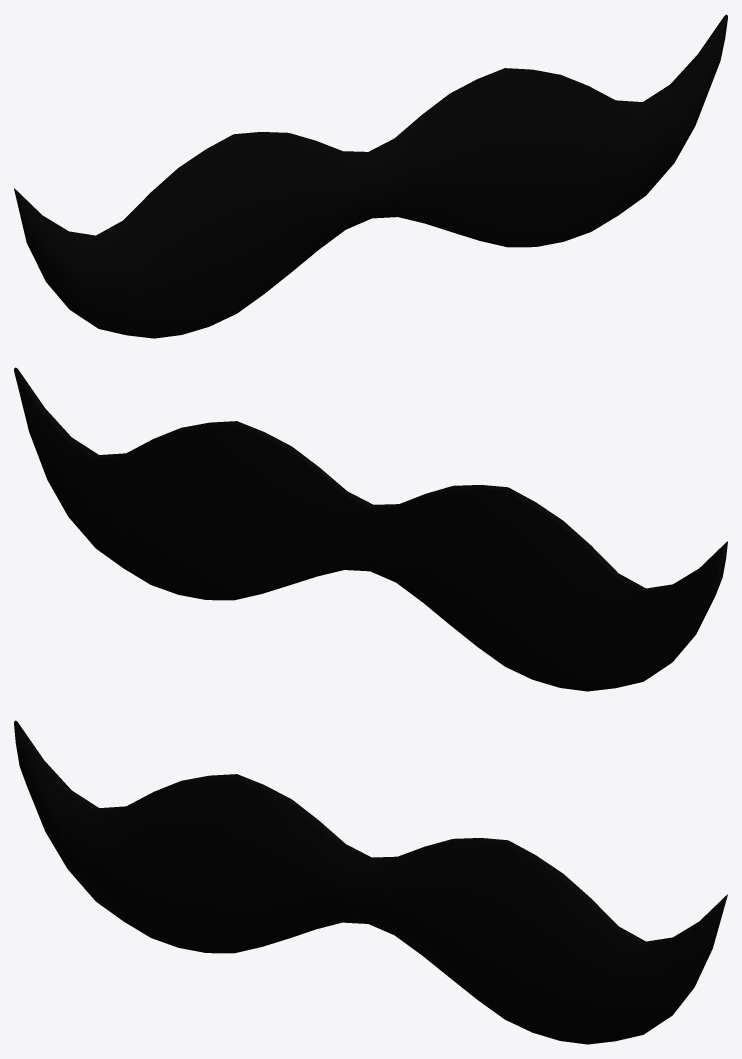
File: Prize_FakeMustache.FBX
The picture shows the model from 3 angles, top to bottom: view 1: azimuth 30°, elevation 25°; view 2: azimuth 150°, elevation 25°; view 3: azimuth 330°, elevation 25°; orthographic projection.
Parts seen in each view (by area): view 1: BaytekMall_FakeMustache; view 2: BaytekMall_FakeMustache; view 3: BaytekMall_FakeMustache.
Part boxes in pixels (bbox=[...]): BaytekMall_FakeMustache: bbox=[14, 14, 727, 338]; BaytekMall_FakeMustache: bbox=[14, 367, 727, 691]; BaytekMall_FakeMustache: bbox=[14, 720, 727, 1044].
Size of the model in its own units: 23.4 by 5.83 by 0.5582.
